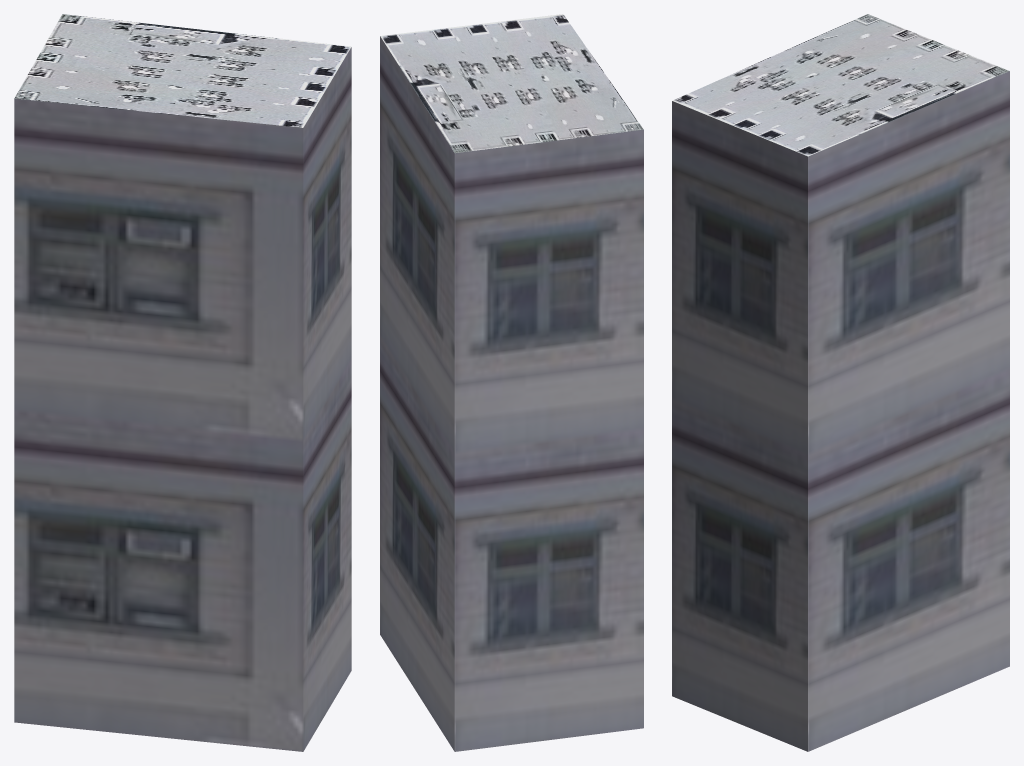
File: ResTex__1684.fbx
3 views of the same model, side by side, from view 1: azimuth 30°, elevation 25°; view 2: azimuth 150°, elevation 25°; view 3: azimuth 270°, elevation 25° (orthographic). The views are drawn at different scales.
Parts seen in each view (by area): view 1: CityEngineMaterial_1_m, CityEngineMaterial_4_m; view 2: CityEngineMaterial_1_m, CityEngineMaterial_4_m; view 3: CityEngineMaterial_1_m, CityEngineMaterial_4_m.
Part boxes in pixels (x1,y1,x2,y2): CityEngineMaterial_1_m: (14,47,351,751); CityEngineMaterial_4_m: (14,14,351,127); CityEngineMaterial_1_m: (380,36,643,751); CityEngineMaterial_4_m: (380,14,643,153); CityEngineMaterial_1_m: (672,71,1009,751); CityEngineMaterial_4_m: (672,14,1009,156).
Bounding box in the file's own units: 3.08 × 6 × 3.08.
2 materials, 2 textured.
